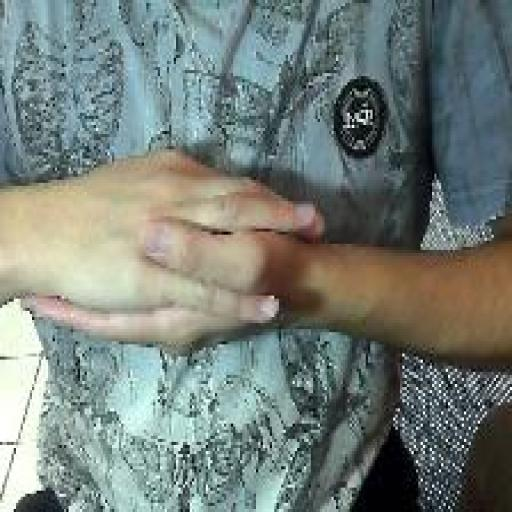Saru -monkey-: (17, 139, 330, 364)
